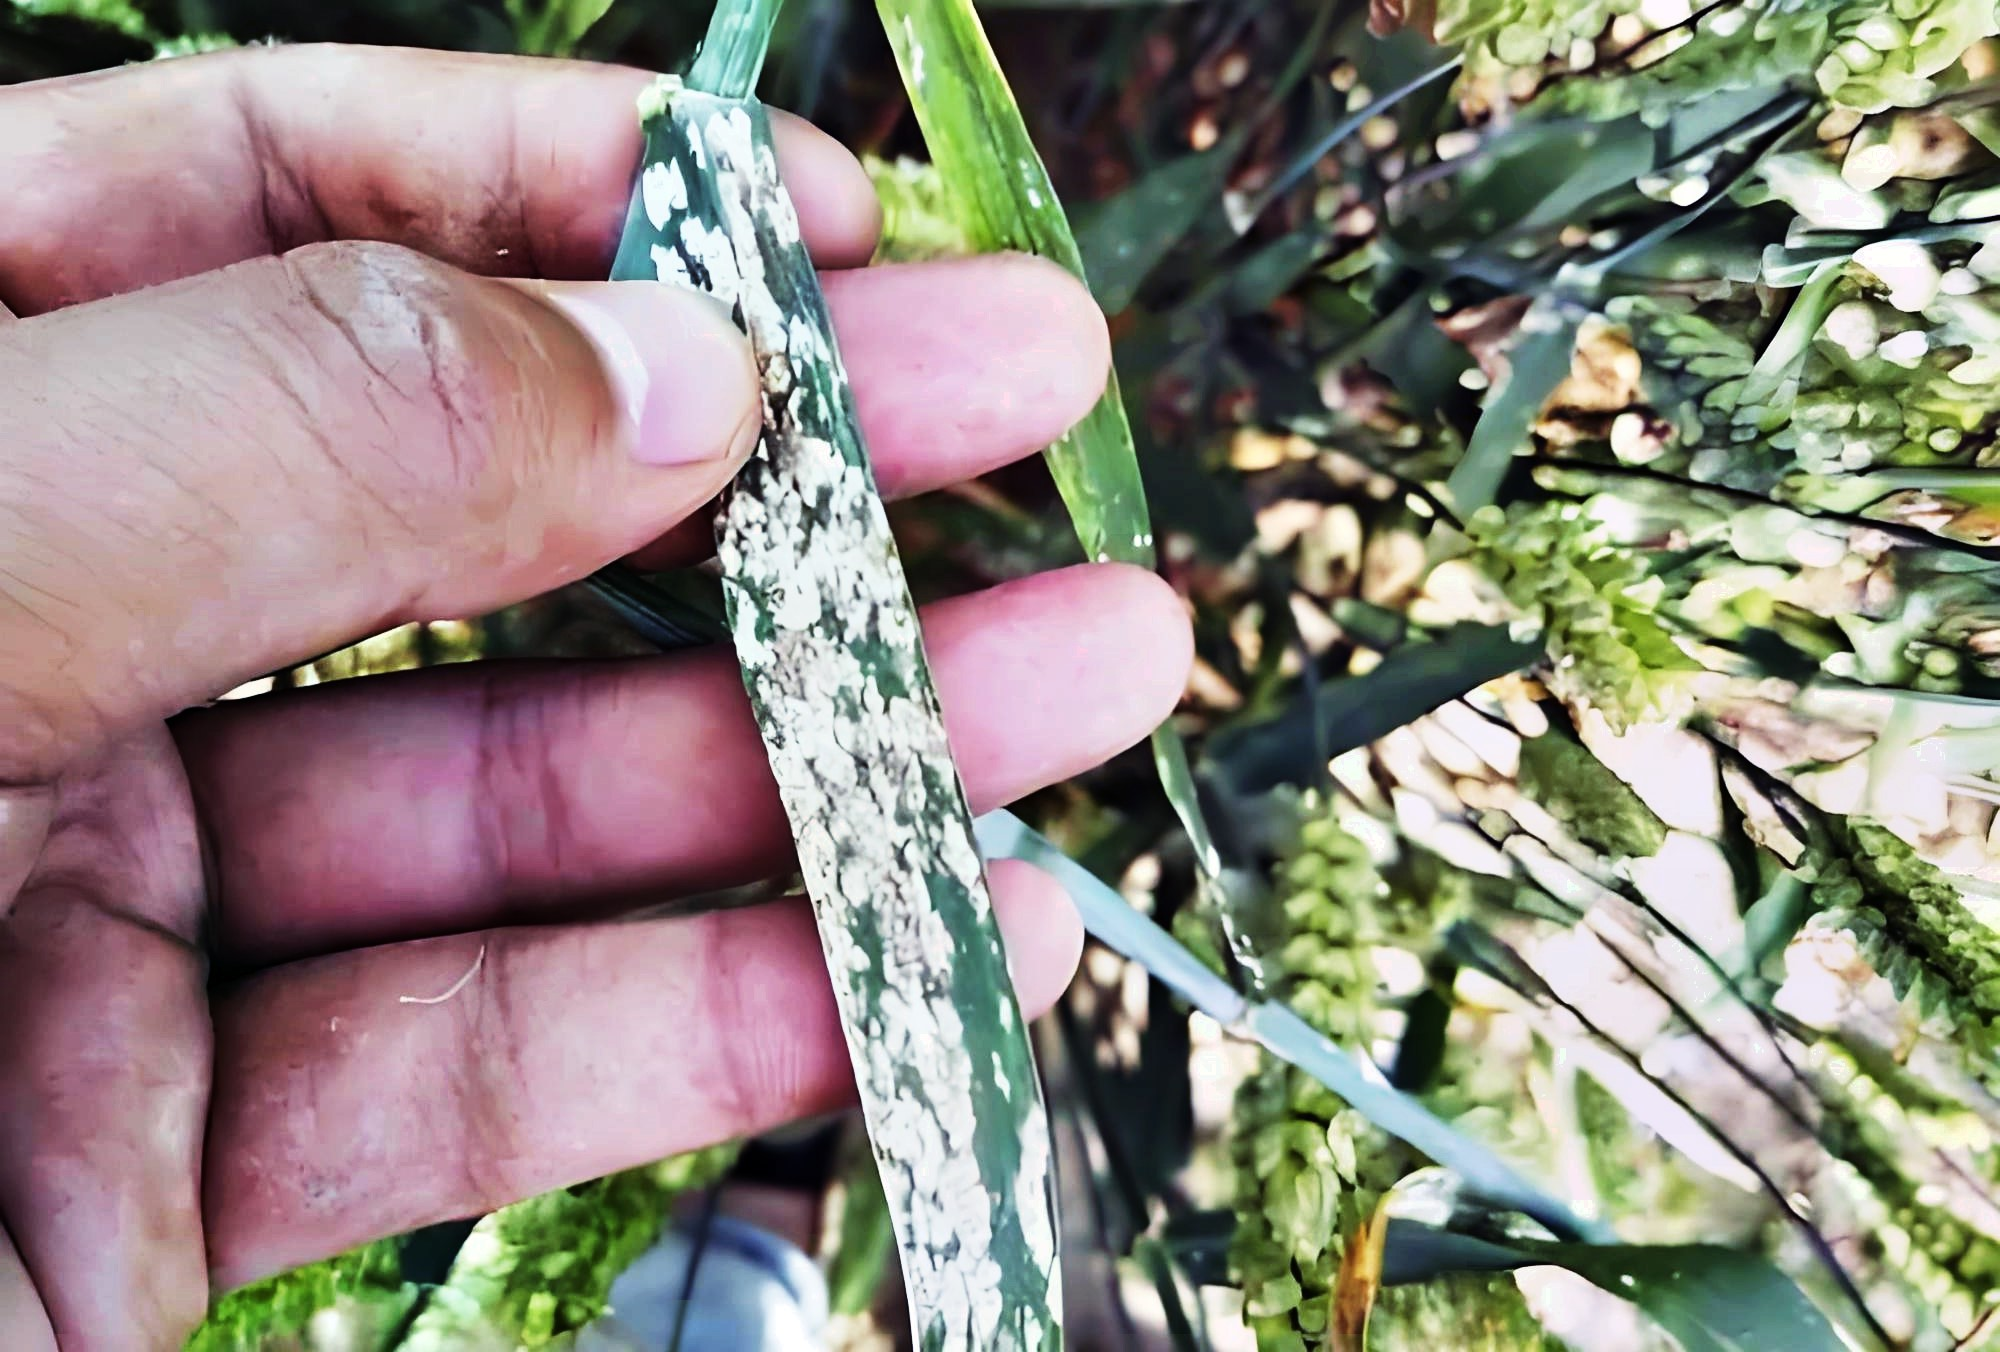Powdery Mildew: (653, 177, 1060, 1332)
